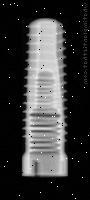Camlog: (22, 18, 68, 176)
